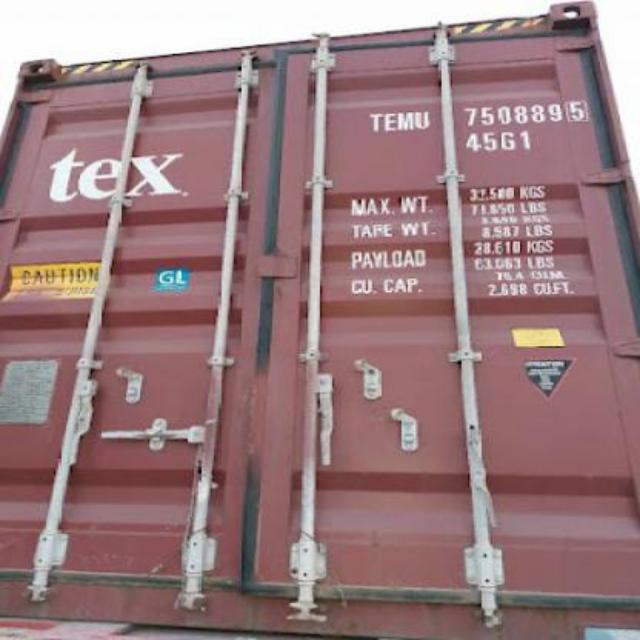0: (496, 96, 509, 126)
5: (478, 100, 496, 130), (566, 98, 588, 120)
7: (460, 100, 478, 130)
8: (530, 96, 546, 128), (514, 96, 526, 124)
9: (548, 98, 564, 128)
E: (380, 107, 396, 137)
M: (396, 106, 412, 132)
T: (368, 105, 382, 134)
U: (414, 101, 430, 133)
